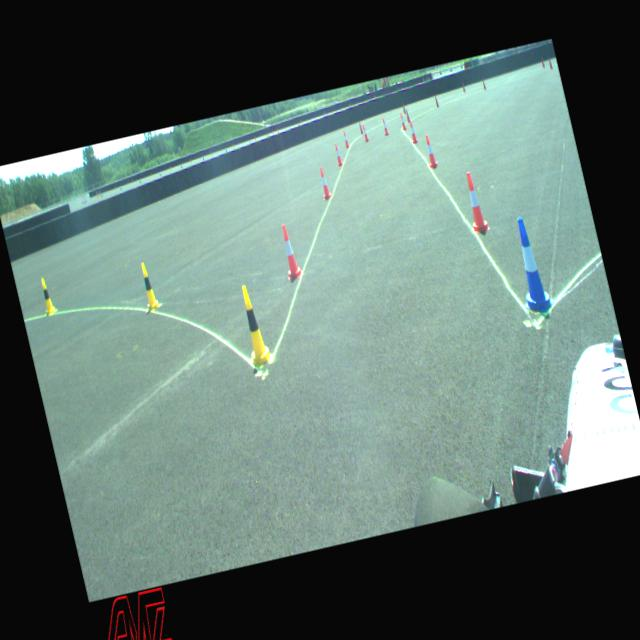blue_cone: (504, 214, 556, 316)
orange_cone: (461, 170, 490, 233), (276, 224, 302, 278), (316, 166, 332, 199), (423, 134, 438, 168), (408, 120, 418, 144), (332, 144, 342, 166), (398, 112, 406, 130), (361, 124, 369, 141), (381, 117, 388, 135), (342, 130, 349, 147)
unknown_cone: (404, 108, 410, 122), (358, 120, 363, 134), (548, 57, 552, 69), (402, 102, 406, 114), (434, 95, 438, 107), (540, 56, 544, 67), (461, 81, 465, 92), (482, 78, 486, 89)
yellow_cone: (234, 282, 273, 365), (138, 261, 160, 311), (38, 276, 57, 314)
